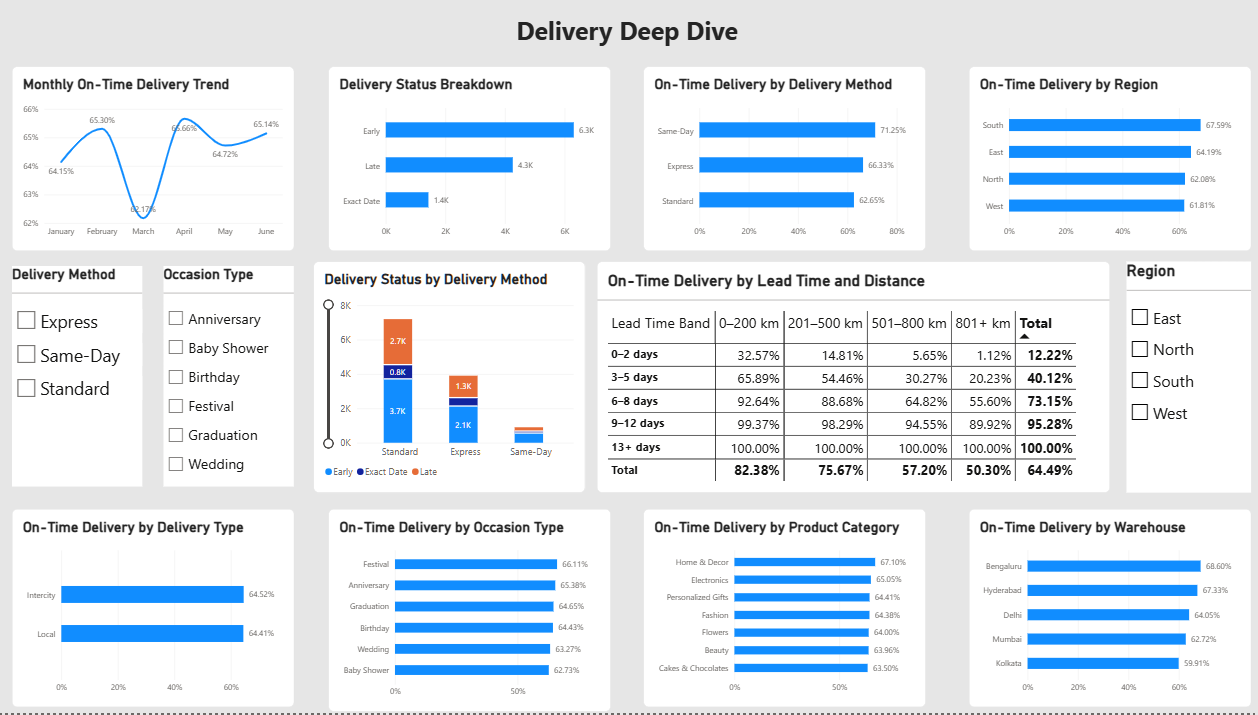

The page's visual inventory and layout, read from the dashboard file:
{"tool":"powerbi","page":{"name":"Delivery Deep Dive","canvas":[1920,1080],"ordinal":1},"visuals":[{"type":"clusteredBarChart","title":"On-Time Delivery by Delivery Method","fields":{"Category":["on_time_gift_delivery_sql.delivery_method"],"Y":["on_time_gift_delivery_sql.On-Time Delivery %"]},"box":[978.9,102.2,427,279.4],"z":0},{"type":"clusteredBarChart","title":"Delivery Status Breakdown","fields":{"Category":["on_time_gift_delivery_sql.delivery status"],"Y":["CountNonNull(on_time_gift_delivery_sql.order_id)"]},"box":[502,102.2,427,279.4],"z":1000},{"type":"clusteredBarChart","title":"On-Time Delivery by Occasion Type","fields":{"Category":["on_time_gift_delivery_sql.occasion_type"],"Y":["on_time_gift_delivery_sql.On-Time Delivery %"]},"box":[502.2,772.9,449.8,281.7],"z":2000},{"type":"clusteredBarChart","title":"On-Time Delivery by Warehouse","fields":{"Category":["on_time_gift_delivery_sql.warehouse_city"],"Y":["on_time_gift_delivery_sql.On-Time Delivery %"]},"box":[1456.3,772.9,443.2,281.7],"z":3000},{"type":"clusteredBarChart","title":"On-Time Delivery by Product Category","fields":{"Category":["on_time_gift_delivery_sql.product_category"],"Y":["on_time_gift_delivery_sql.On-Time Delivery %"]},"box":[978.1,772.9,445.4,281.7],"z":4000},{"type":"textbox","box":[738.2,22.7,431.5,61.3],"z":5000},{"type":"lineChart","title":"Monthly On-Time Delivery Trend","fields":{"Category":["on_time_gift_delivery_sql.order_date.Variation.Date Hierarchy.Month"],"Y":["on_time_gift_delivery_sql.On-Time Delivery %"]},"box":[22.7,102.2,427,279.4],"z":6000},{"type":"clusteredBarChart","title":"On-Time Delivery by Region","fields":{"Category":["on_time_gift_delivery_sql.region"],"Y":["on_time_gift_delivery_sql.On-Time Delivery %"]},"box":[1471.8,102.2,427,279.4],"z":7000},{"type":"clusteredBarChart","title":"On-Time Delivery by Delivery Type","fields":{"Category":["on_time_gift_delivery_sql.Delivery Type "],"Y":["on_time_gift_delivery_sql.On-Time Delivery %"]},"box":[21.8,772.9,458.5,281.7],"z":8000},{"type":"pivotTable","title":"On-Time Delivery by Lead Time and Distance","fields":{"Columns":["on_time_gift_delivery_sql.Distance Band"],"Rows":["on_time_gift_delivery_sql.Lead Time Band"],"Values":["on_time_gift_delivery_sql.On-Time Delivery %"]},"box":[908.5,397.5,776.8,349.8],"z":9000},{"type":"columnChart","title":"Delivery Status by Delivery Method","fields":{"Category":["on_time_gift_delivery_sql.delivery_method"],"Series":["on_time_gift_delivery_sql.delivery status"],"Y":["CountNonNull(on_time_gift_delivery_sql.order_id)"]},"box":[479.2,397.5,411.1,349.8],"z":10000},{"type":"slicer","title":"Region ","fields":{"Values":["on_time_gift_delivery_sql.region"]},"box":[1710.3,397.5,188.5,349.8],"z":11000},{"type":"slicer","title":"Delivery Method","fields":{"Values":["on_time_gift_delivery_sql.delivery_method"]},"box":[22.7,404.3,197.6,333.9],"z":12000},{"type":"slicer","title":"Occasion Type","fields":{"Values":["on_time_gift_delivery_sql.occasion_type"]},"box":[252.1,404.3,197.6,333.9],"z":13000}]}

Visuals, with their boxes in screenshot pixels (x1, y1, x2, y2), scaled from the page's 1920x1080 canvas onto the 1258x715 screenshot:
"On-Time Delivery by Delivery Method" clusteredBarChart: (left=641, top=68, right=921, bottom=253)
"Delivery Status Breakdown" clusteredBarChart: (left=329, top=68, right=609, bottom=253)
"On-Time Delivery by Occasion Type" clusteredBarChart: (left=329, top=512, right=624, bottom=698)
"On-Time Delivery by Warehouse" clusteredBarChart: (left=954, top=512, right=1245, bottom=698)
"On-Time Delivery by Product Category" clusteredBarChart: (left=641, top=512, right=933, bottom=698)
textbox: (left=484, top=15, right=766, bottom=56)
"Monthly On-Time Delivery Trend" lineChart: (left=15, top=68, right=295, bottom=253)
"On-Time Delivery by Region" clusteredBarChart: (left=964, top=68, right=1244, bottom=253)
"On-Time Delivery by Delivery Type" clusteredBarChart: (left=14, top=512, right=315, bottom=698)
"On-Time Delivery by Lead Time and Distance" pivotTable: (left=595, top=263, right=1104, bottom=495)
"Delivery Status by Delivery Method" columnChart: (left=314, top=263, right=583, bottom=495)
"Region " slicer: (left=1121, top=263, right=1244, bottom=495)
"Delivery Method" slicer: (left=15, top=268, right=144, bottom=489)
"Occasion Type" slicer: (left=165, top=268, right=295, bottom=489)
